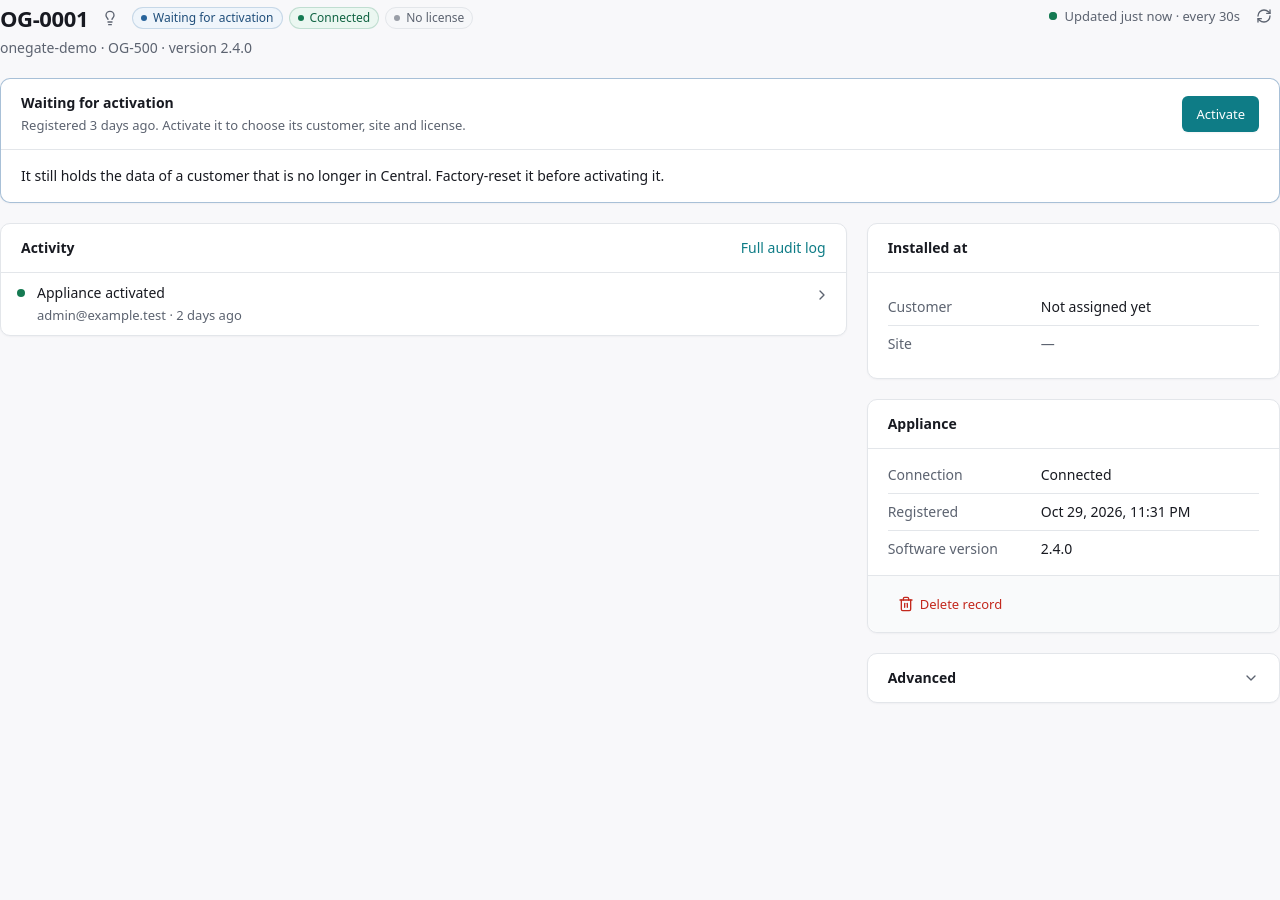
Test case: Activate › an appliance holding a customer Central no longer has cannot be activated: factory-reset first
Click the button "Activate" at (1221, 114), box top-left (1182, 96), bottom-right (1259, 132)
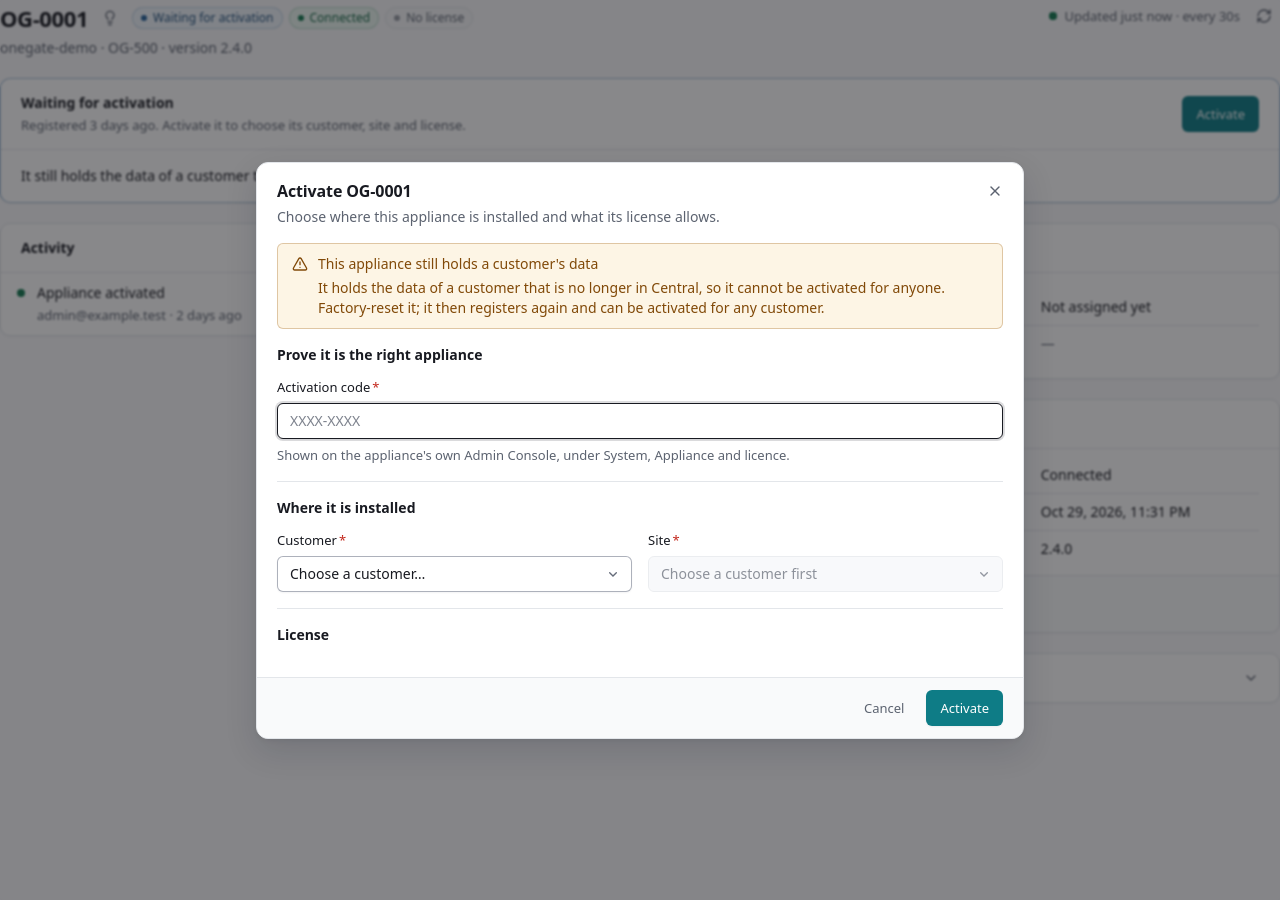
Result: the text "no longer in Central, so it cannot be activated for anyone" is shown at top-left (318, 278), bottom-right (945, 316)
Click the button "Activate" at (965, 708), box top-left (926, 690), bottom-right (1003, 726)
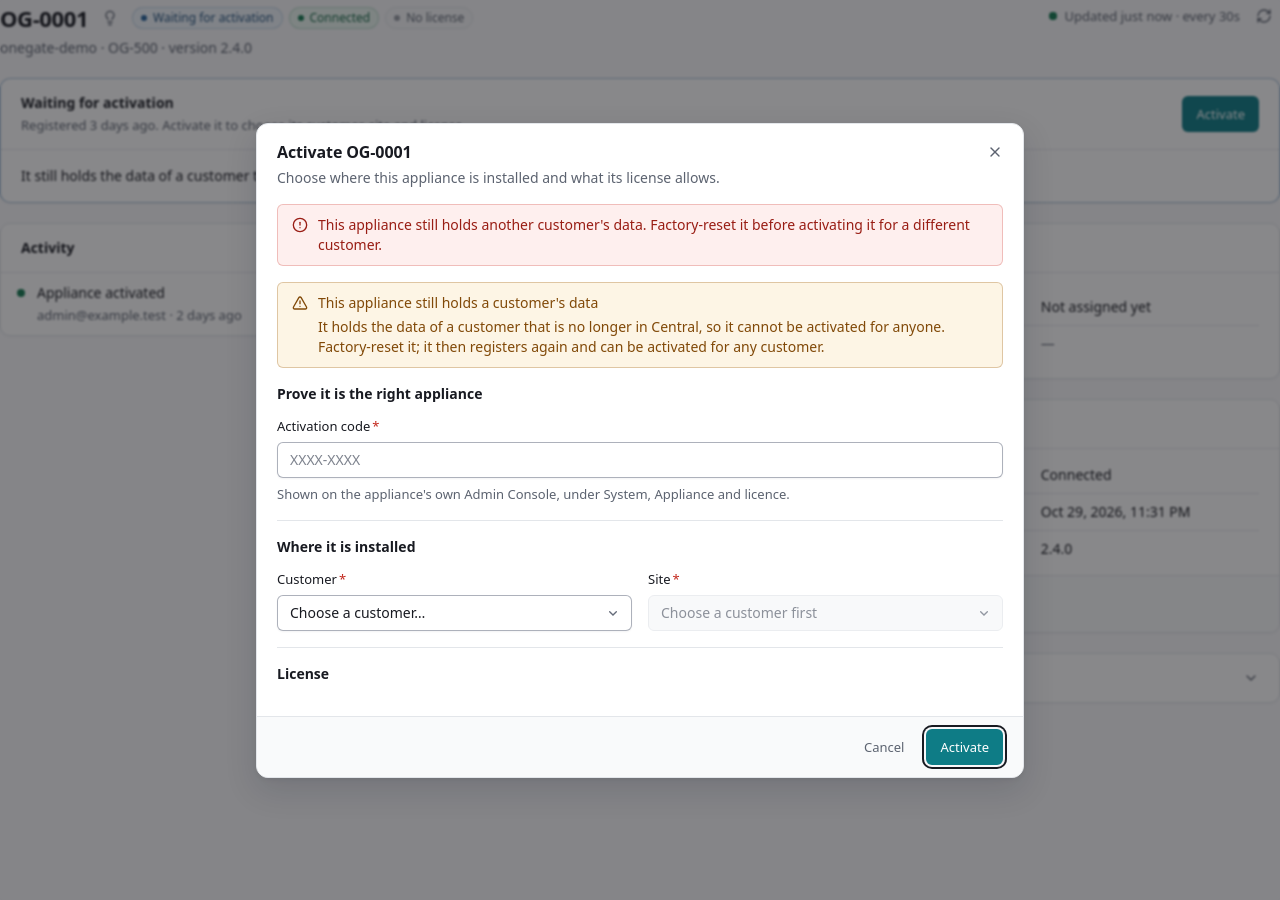
Result: the text "still holds another customer's data. Factory-reset it" is shown at top-left (318, 214), bottom-right (970, 254)
